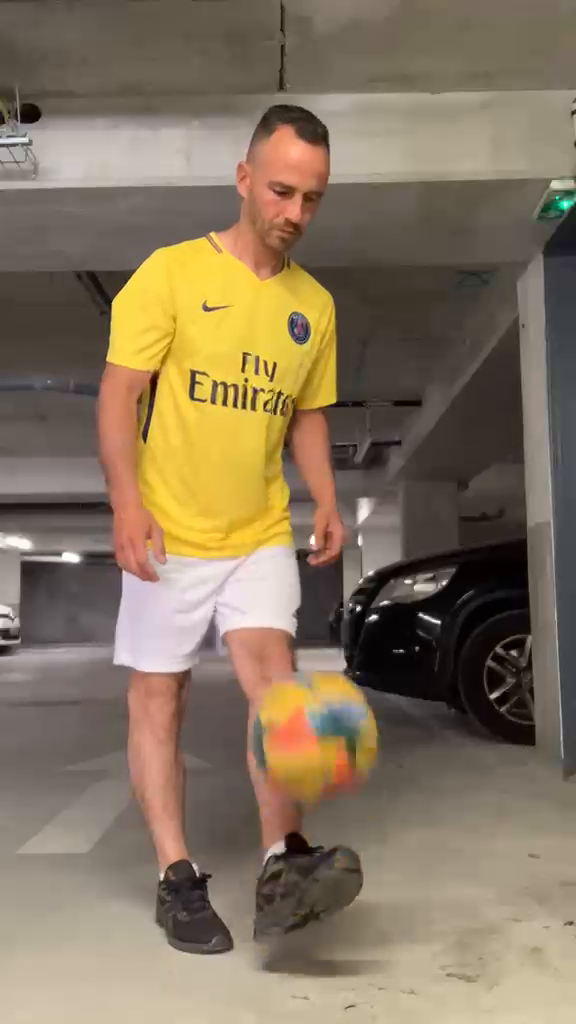ball: (248, 671, 382, 804)
